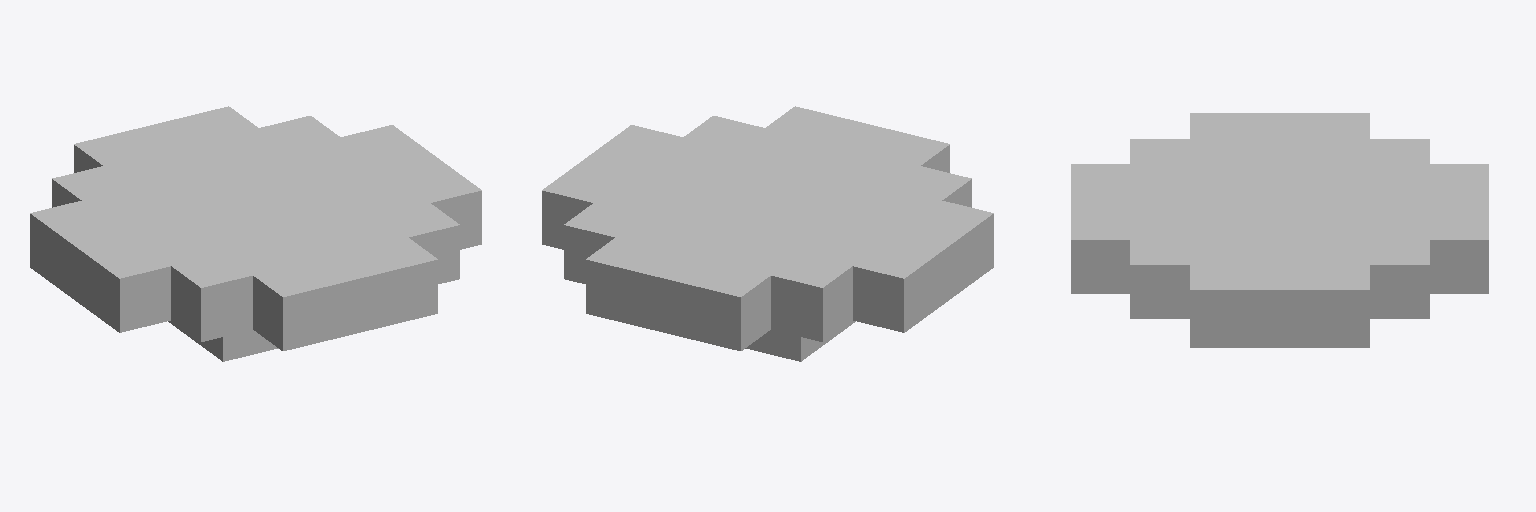
The model's file is Garage Lamp.obj.
The picture shows the model from 3 angles: view 1: azimuth 30°, elevation 25°; view 2: azimuth 150°, elevation 25°; view 3: azimuth 270°, elevation 25°; orthographic projection.
Parts seen in each view (by area): view 1: Model; view 2: Model; view 3: Model.
Part boxes in pixels (x1,y1,x2,y2): Model: (30,106,481,361); Model: (542,106,993,361); Model: (1071,113,1488,347).
Bounding box in the file's own units: 32 × 9.14 × 32.